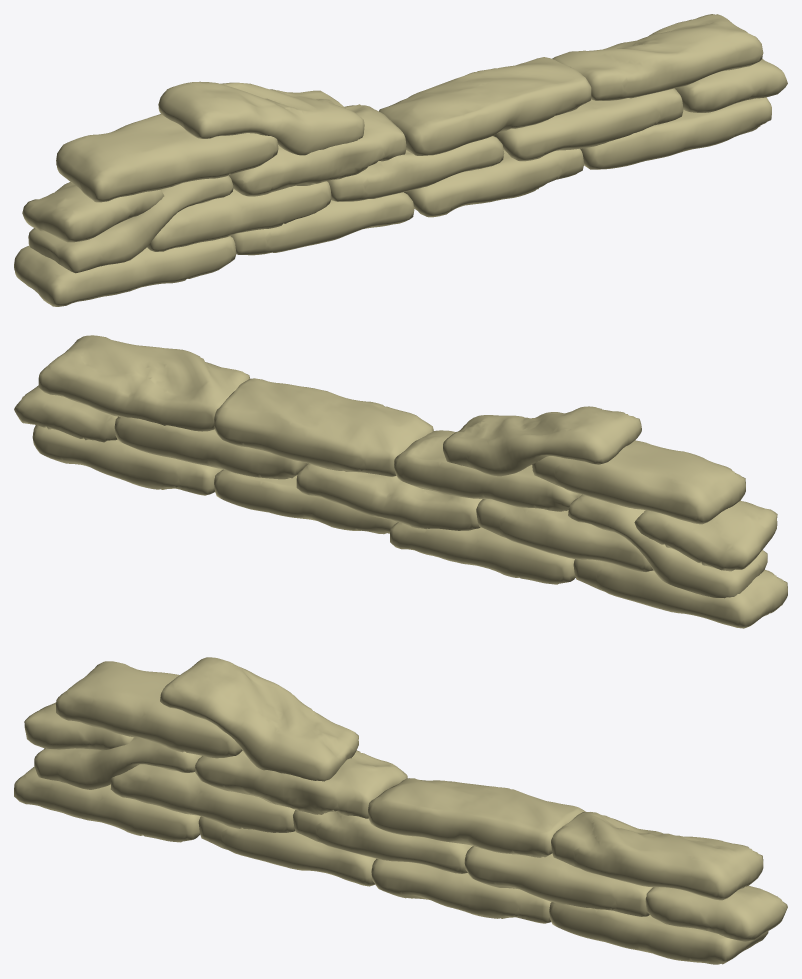
The model's file is Barrier.fbx.
3 views of the same model, one above another, from view 1: azimuth 30°, elevation 25°; view 2: azimuth 150°, elevation 25°; view 3: azimuth 330°, elevation 25° (orthographic).
Parts seen in each view (by area): view 1: outpost_kit; view 2: outpost_kit; view 3: outpost_kit.
Part boxes in pixels (x1,y1,x2,y2): outpost_kit: (14, 14, 787, 306); outpost_kit: (14, 335, 787, 628); outpost_kit: (14, 657, 787, 964).
Size of the model in its own units: 234 by 49.16 by 28.48.
